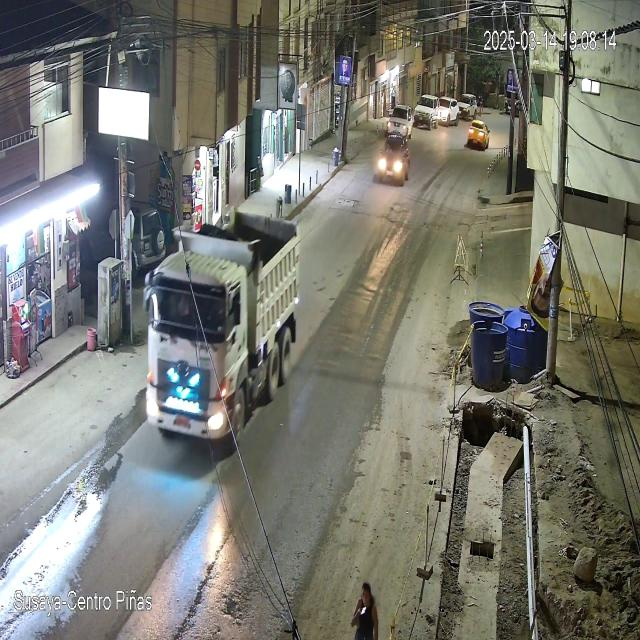TRUCK: (144, 218, 302, 462)
